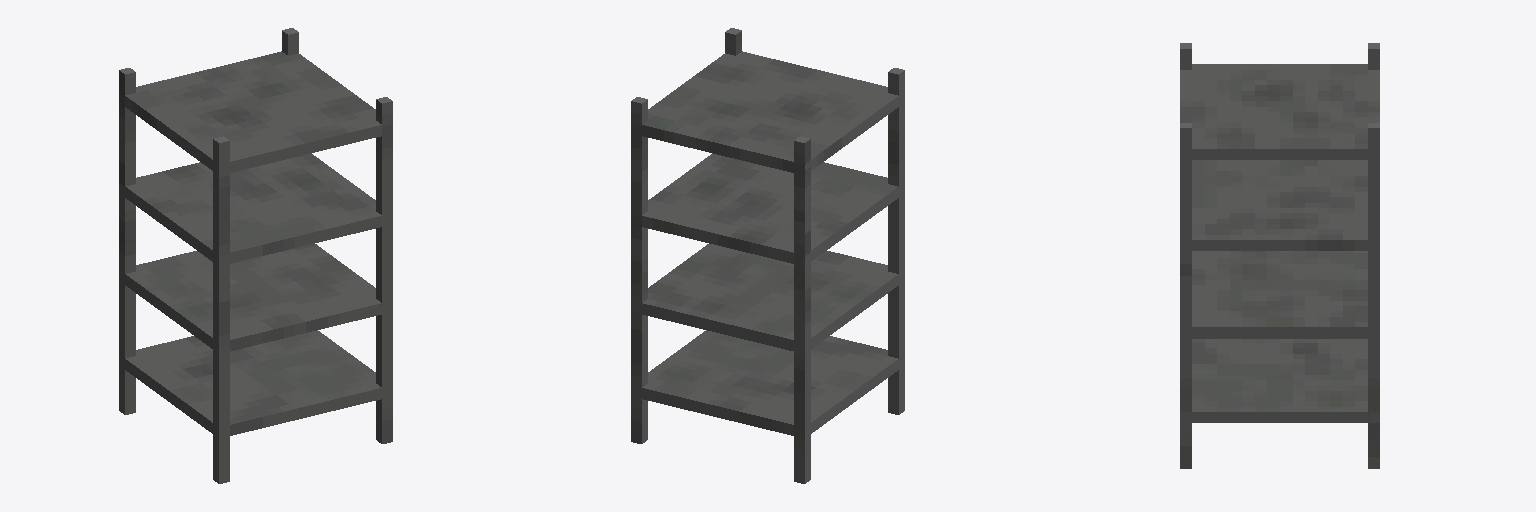
The picture shows the model from 3 angles: view 1: azimuth 30°, elevation 25°; view 2: azimuth 150°, elevation 25°; view 3: azimuth 270°, elevation 25°; orthographic projection.
Parts seen in each view (by area): view 1: cube; view 2: cube; view 3: cube.
Boxes of the visible parts, <box> form: cube: <box>119,28,392,483</box>; cube: <box>631,28,904,483</box>; cube: <box>1180,43,1379,468</box>.
Bounding box in the file's own units: 1 × 1.88 × 1.
1 materials, 1 textured.